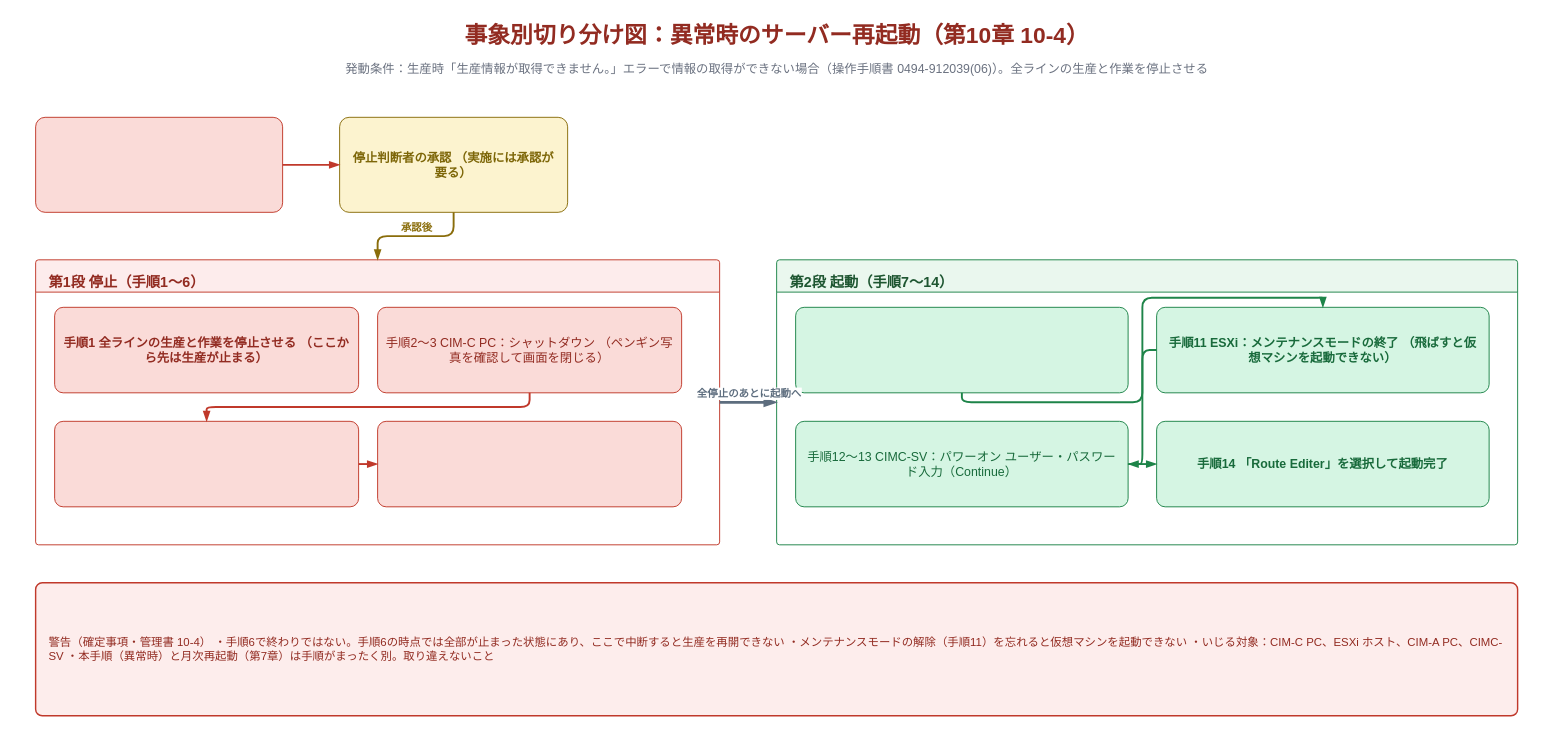
Image size: 1552x732. Some labels were removed from this diagram. Here are the shapes that lost their labels. From the top down, the centre of each, then its label:
point (159, 164): 発動条件 「生産情報が取得できません。」 エラー発生
point (961, 349): 手順7〜8 CIM-C/A PC の電源ON（3分待つ） CIM-A PC にログオン
point (206, 463): 手順4 ESXi ホスト：メンテナンスモードへ変更
point (529, 463): 手順6 CIM-A PC：シャットダウン
